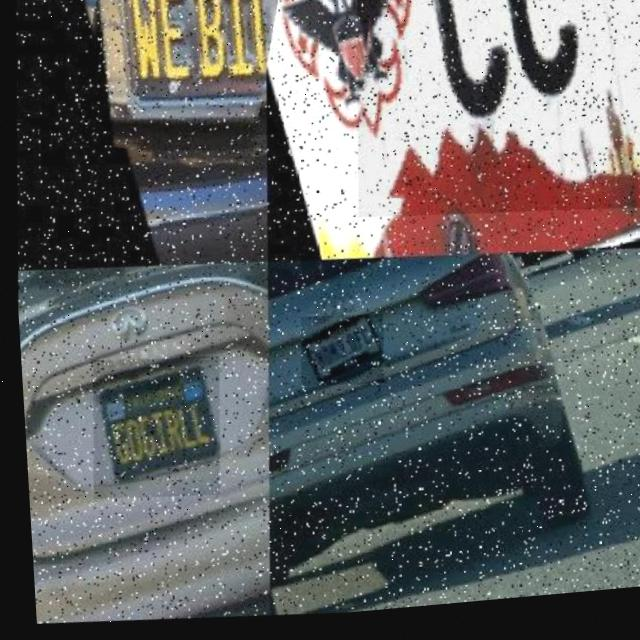LicensePlate: (343, 0, 640, 239), (69, 0, 280, 176), (82, 353, 221, 507), (297, 321, 379, 391)
